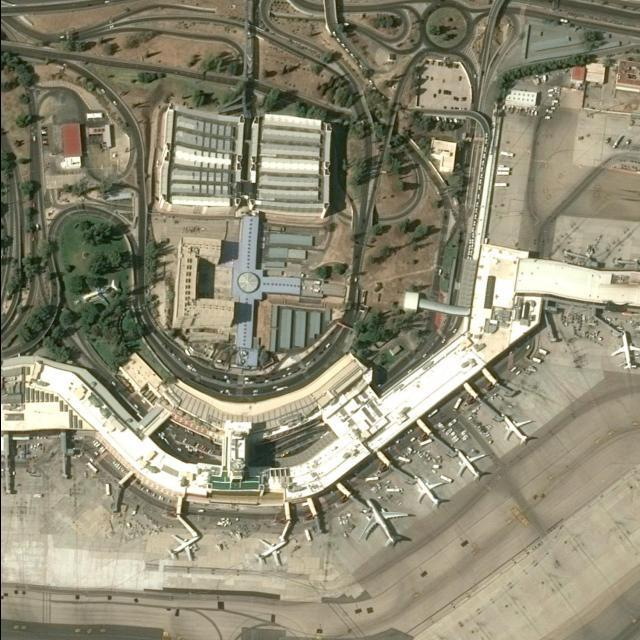Aircraft: (359, 499, 411, 548), (411, 472, 448, 508), (610, 329, 640, 371), (252, 538, 290, 568), (456, 447, 487, 483), (165, 533, 200, 563), (502, 411, 532, 445)
